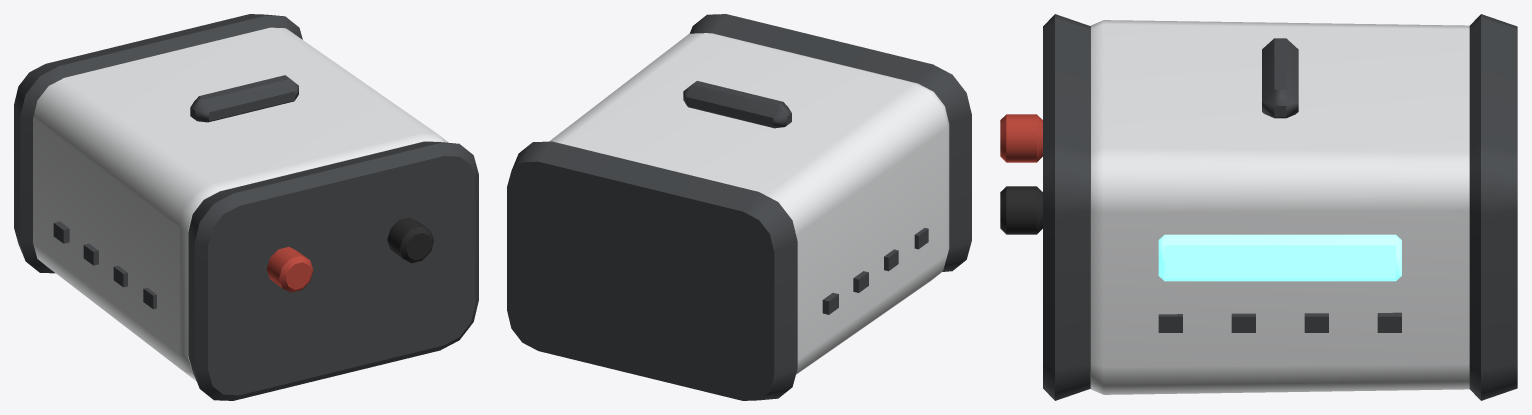
File: robot_cell.glb
3 views of the same model, side by side, from view 1: azimuth 30°, elevation 25°; view 2: azimuth 150°, elevation 25°; view 3: azimuth 270°, elevation 25° (orthographic). The views are drawn at different scales.
Visible parts, largest first — view 1: body; view 2: body; view 3: body.
Boxes of the visible parts, x1,y1,x2,y2 form: body: (14,14,478,400); body: (507,14,971,400); body: (1000,14,1517,400).
Bounding box in the file's own units: 0.067 × 0.049 × 0.085.
